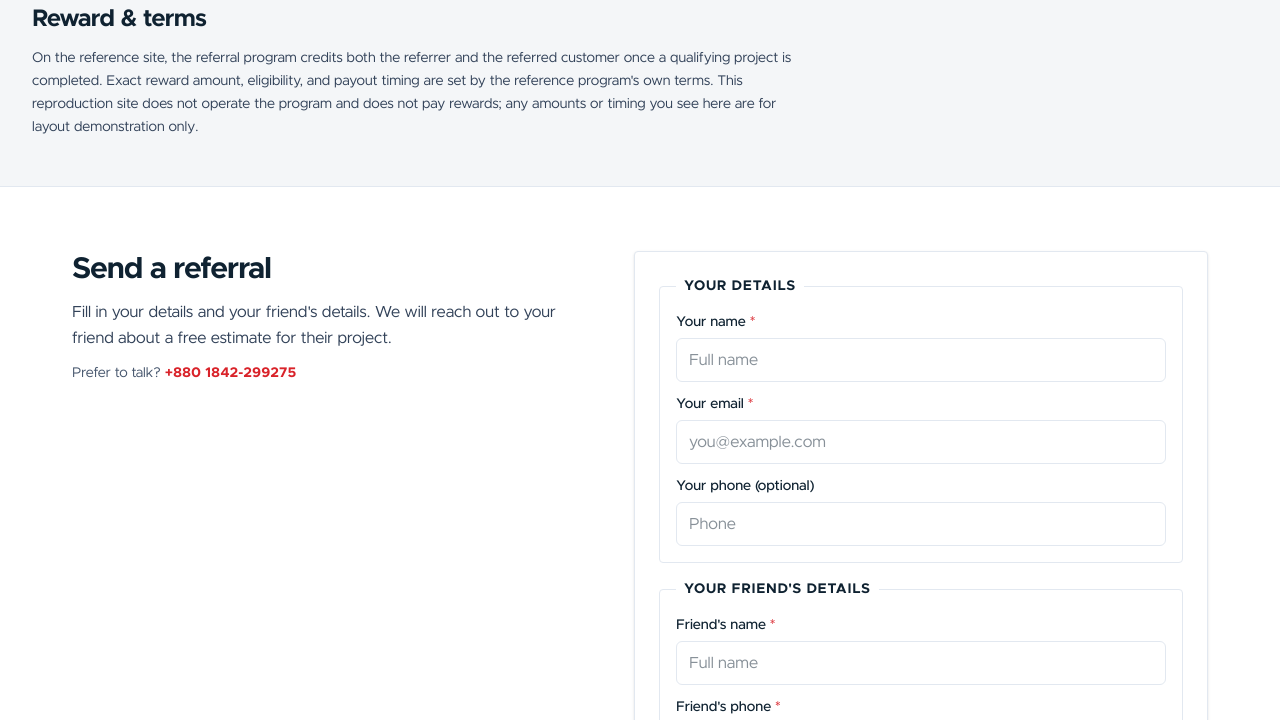
Test case: ReferAFriend form behavior › submits a valid payload and shows the demo success state
(page scrolled)
Step 1. Type "Alex Referrer" into the field labelled "Your name *" → (921, 360), box [676,338,1166,382]
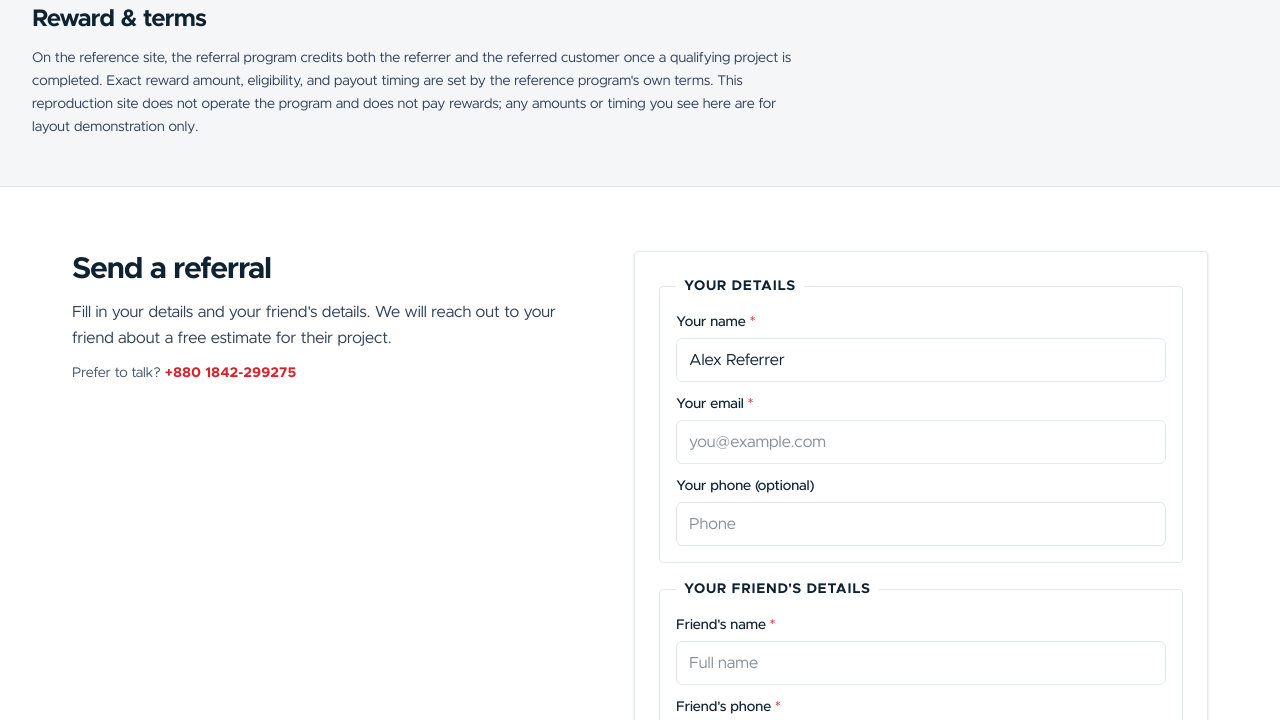
Step 2. Type "alex@example.com" into the field labelled "Your email *" → (921, 442), box [676,420,1166,464]
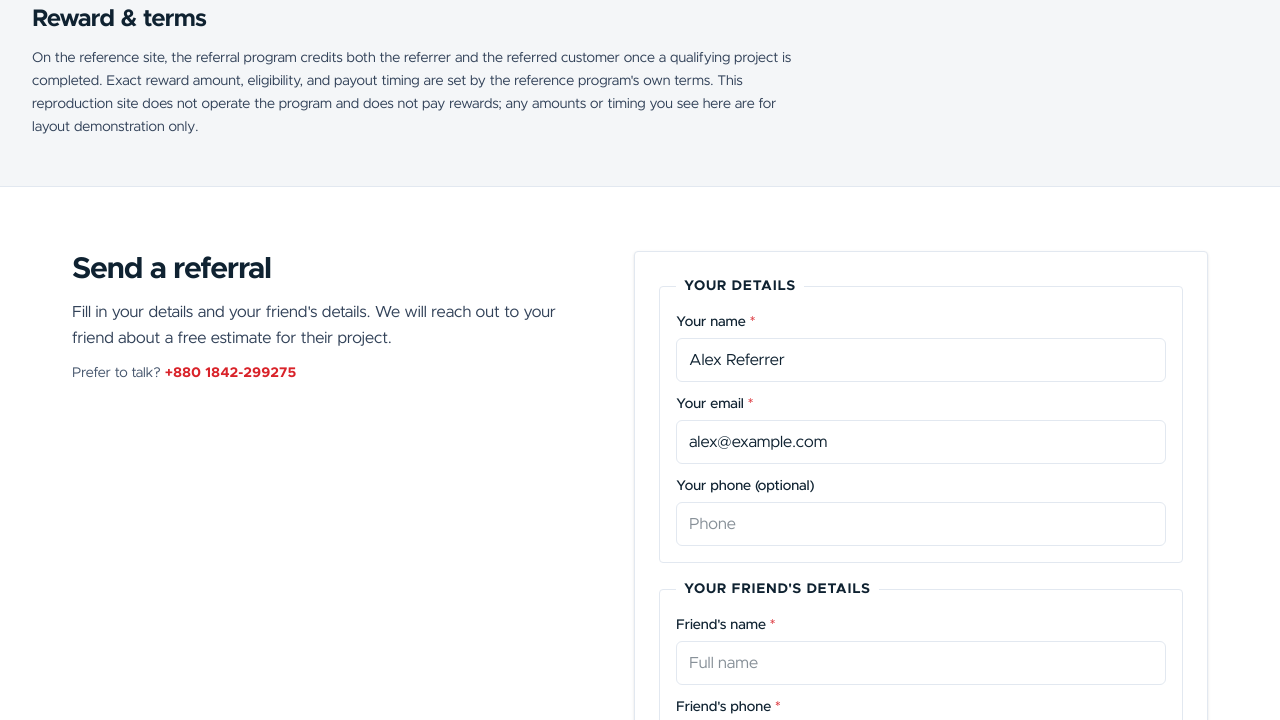
Step 3. Type "Jamie Friend" into the field labelled "Friend's name *" → (921, 663), box [676,641,1166,685]
(page scrolled)
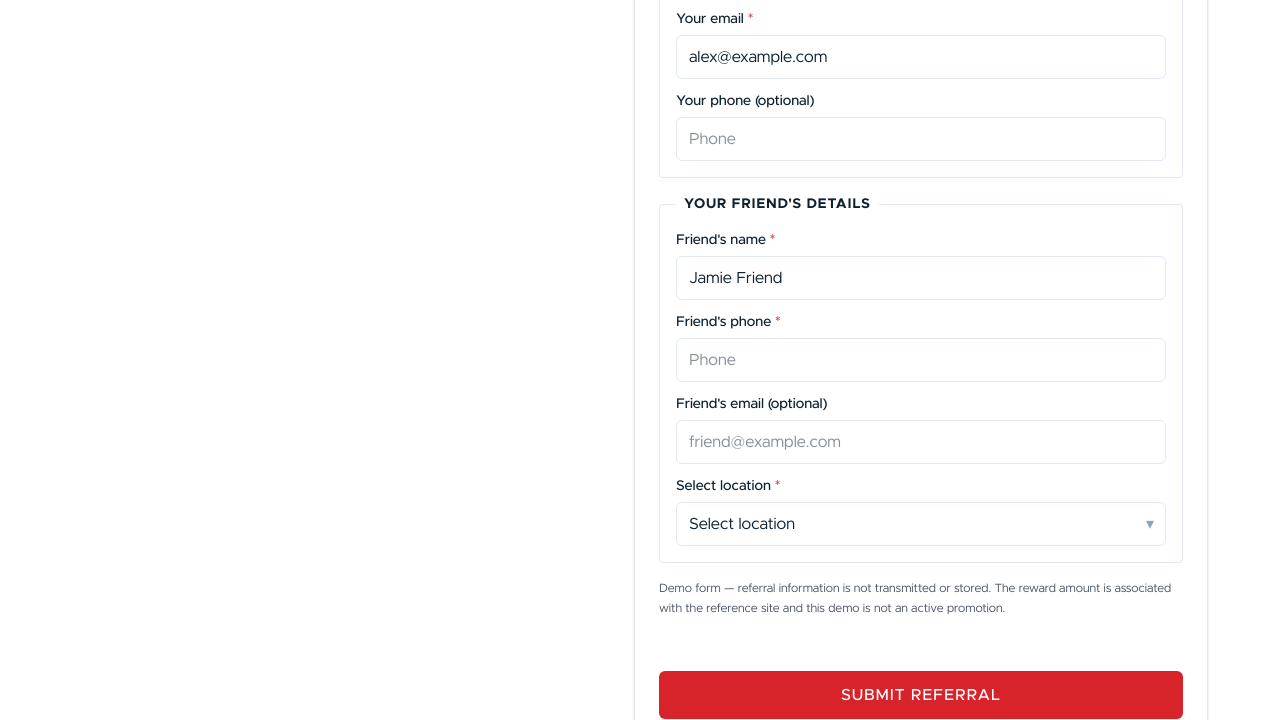
Step 4. Type "555-123-4567" into the field labelled "Friend's phone *" → (921, 360), box [676,338,1166,382]
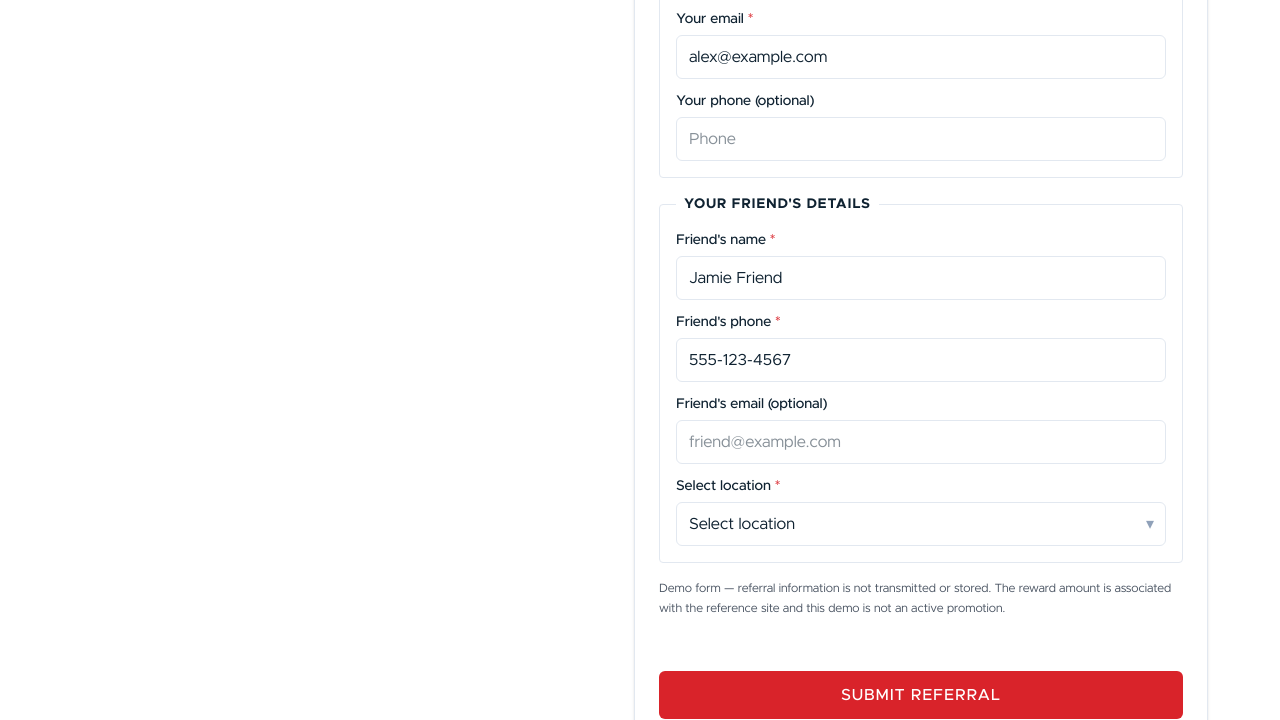
Step 5. Select "Nashville Area" in the dropdown labelled "Select location *" → (921, 524), box [676,502,1166,546]
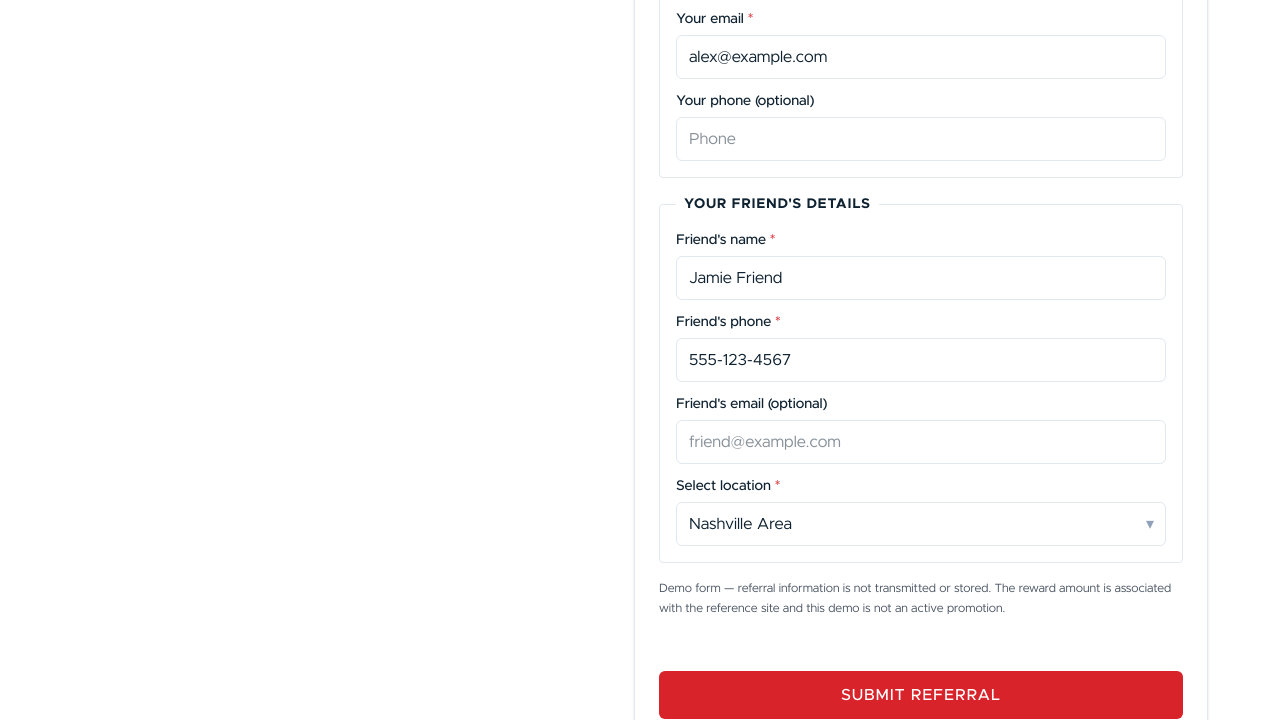
Step 6. Click the button "Submit Referral" → (921, 695), box [659,671,1183,719]
(page scrolled)
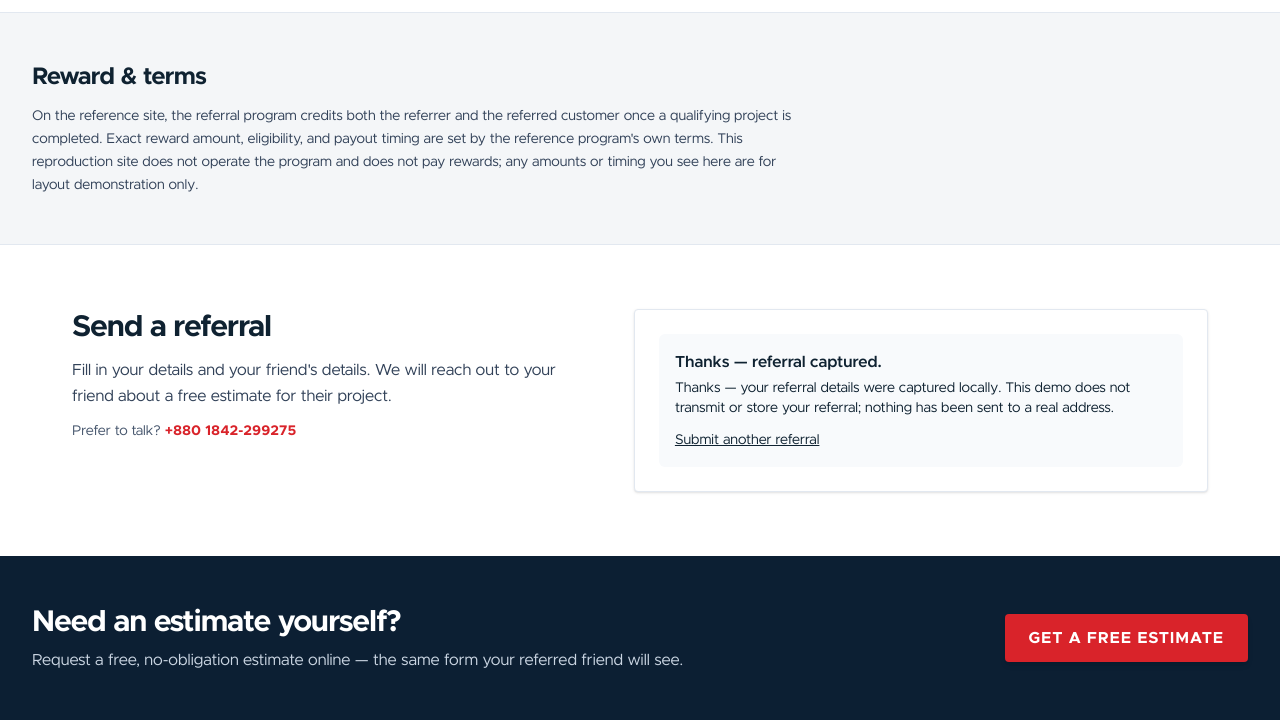
Expected: the text "Thanks — referral captured." is shown, [675,354,882,370]
Expected: the text "this demo does not transmit or store your referral" is shown, [675,381,1130,415]
